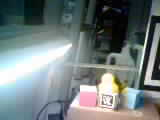duck: (87, 73, 125, 98)
